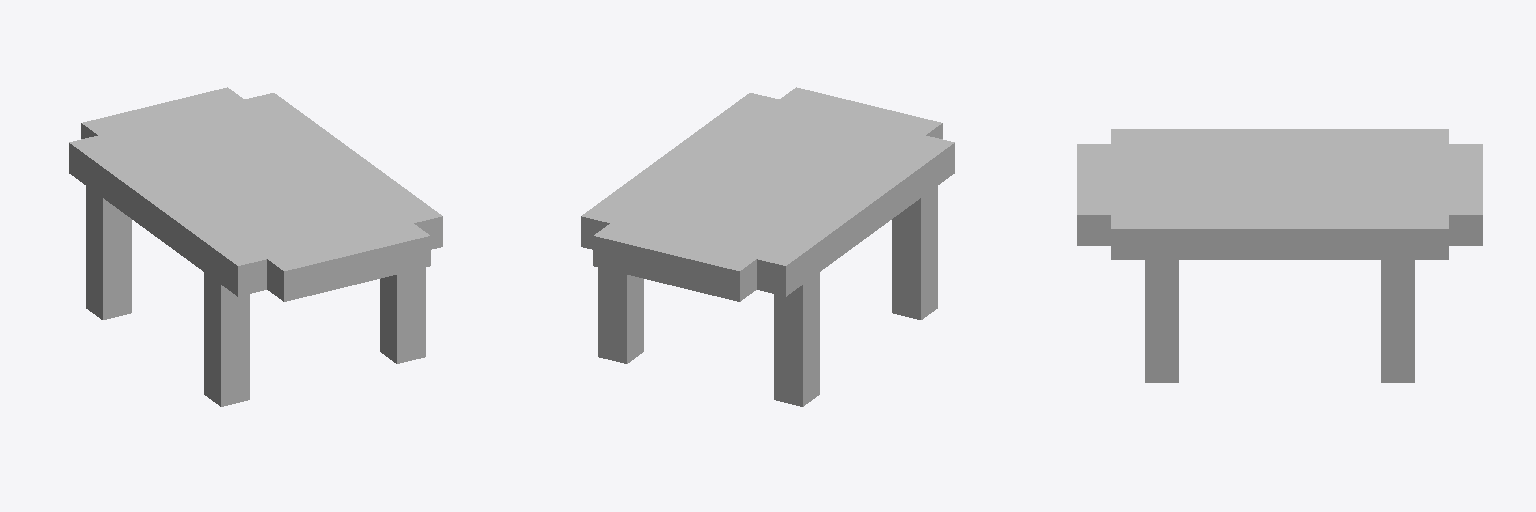
File: villageTable-0.obj
3 renders of one model, left to right at view 1: azimuth 30°, elevation 25°; view 2: azimuth 150°, elevation 25°; view 3: azimuth 270°, elevation 25°, orthographic.
Parts seen in each view (by area): view 1: object 1; view 2: object 1; view 3: object 1.
Part boxes in pixels (x1,y1,x2,y2): object 1: (69, 87, 442, 406); object 1: (581, 87, 954, 406); object 1: (1077, 129, 1482, 382).
Bounding box in the file's own units: 0.7 × 0.5 × 1.2.